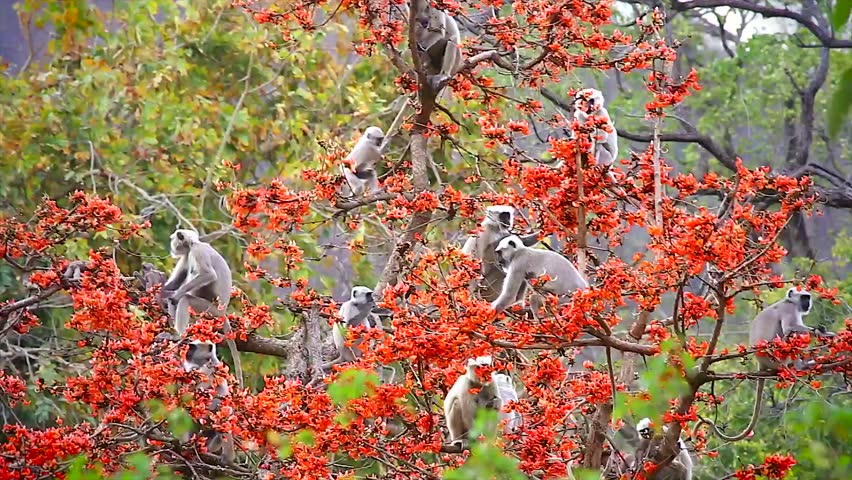monkey: (697, 280, 831, 441), (479, 224, 604, 351), (158, 222, 251, 391), (389, 3, 505, 112), (453, 201, 558, 311), (169, 337, 249, 468), (424, 353, 530, 451), (306, 275, 406, 366), (564, 83, 639, 196), (619, 412, 714, 480), (330, 119, 396, 206)
